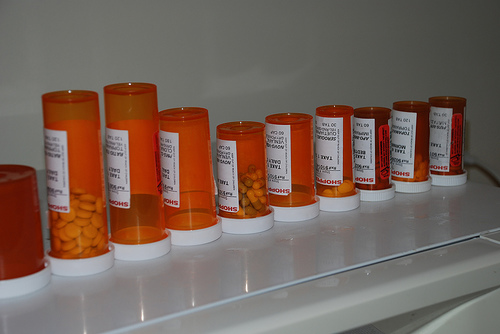pill bottle: (40, 89, 117, 278), (104, 81, 170, 261), (159, 105, 223, 246), (215, 120, 278, 235), (1, 162, 50, 301), (264, 111, 321, 226), (312, 103, 361, 214), (352, 104, 397, 200), (390, 100, 434, 195), (430, 95, 470, 189)
